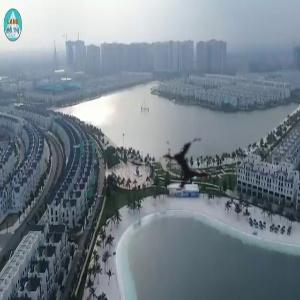drone: (134, 112, 238, 216)
